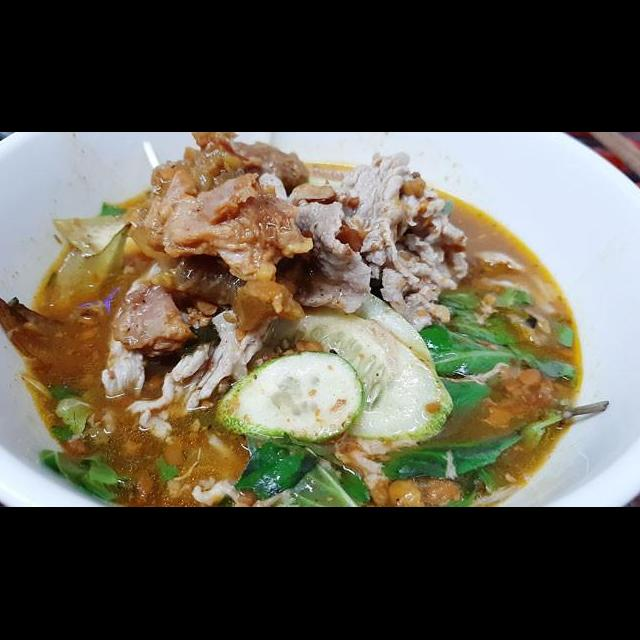thit heo: (93, 304, 270, 446), (364, 184, 472, 336), (279, 194, 376, 320), (330, 144, 416, 272)
